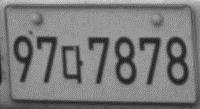7: (87, 36, 110, 84), (35, 35, 57, 83), (138, 36, 160, 84)
8: (164, 36, 189, 86), (113, 36, 137, 85)
9: (12, 35, 32, 82)
다: (61, 44, 84, 84)
